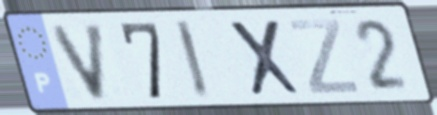2: (355, 16, 413, 93)
7: (117, 20, 163, 102)
I: (170, 17, 214, 102)
V: (46, 20, 108, 104)
X: (224, 17, 306, 99)
Z: (286, 16, 361, 96)
